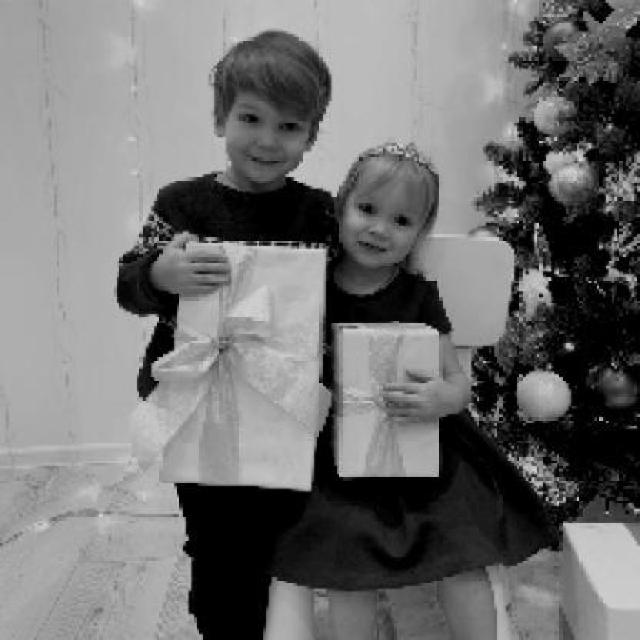child: (257, 145, 566, 638), (112, 25, 334, 638)
